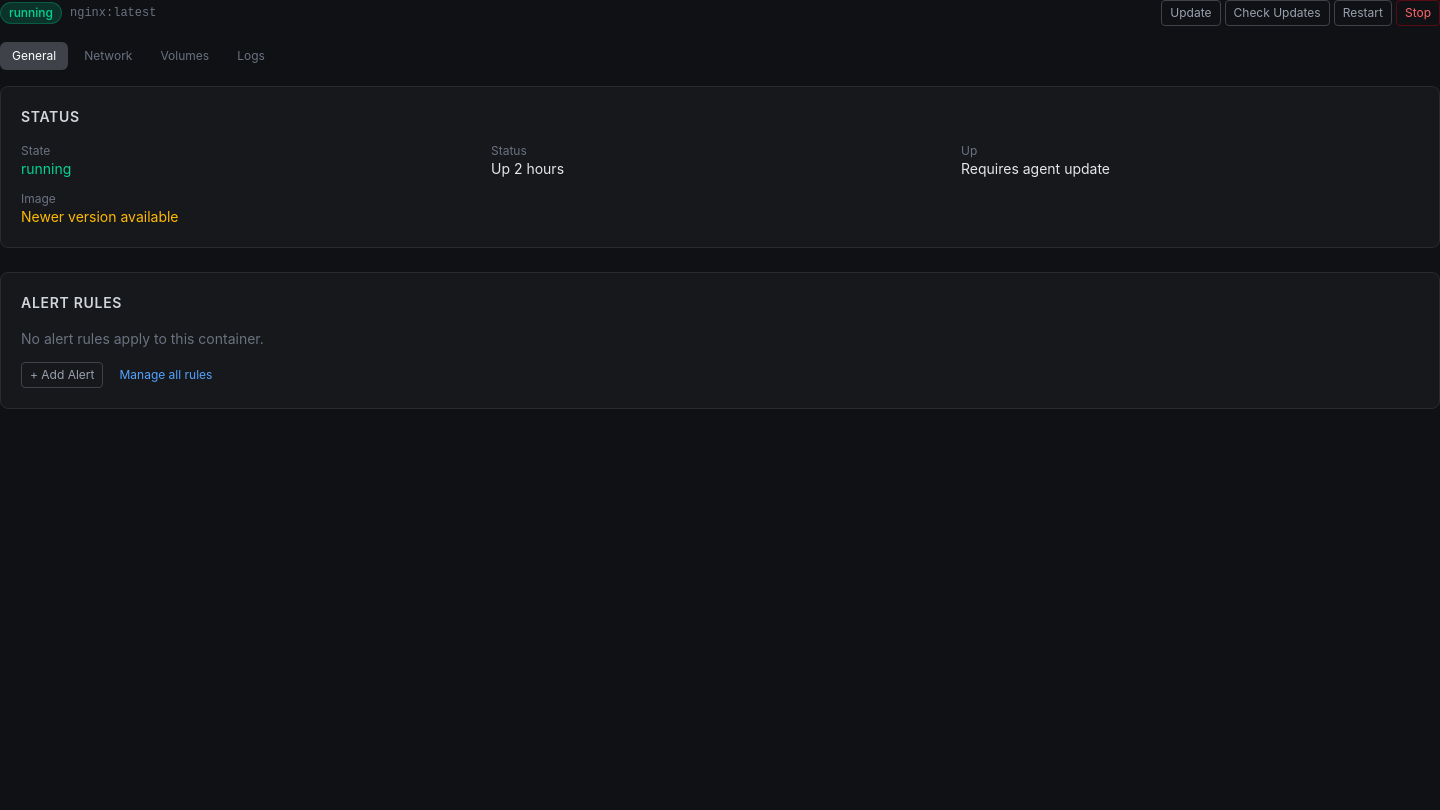
Test: [AC-114] terminal states render the frozen labels › shows Failed at <step>: <message> with a Dismiss button, until dismissed
The width and height of the screenshot is (1440, 810).
Click the button "Update" at (1191, 13), box [1161, 0, 1220, 26]
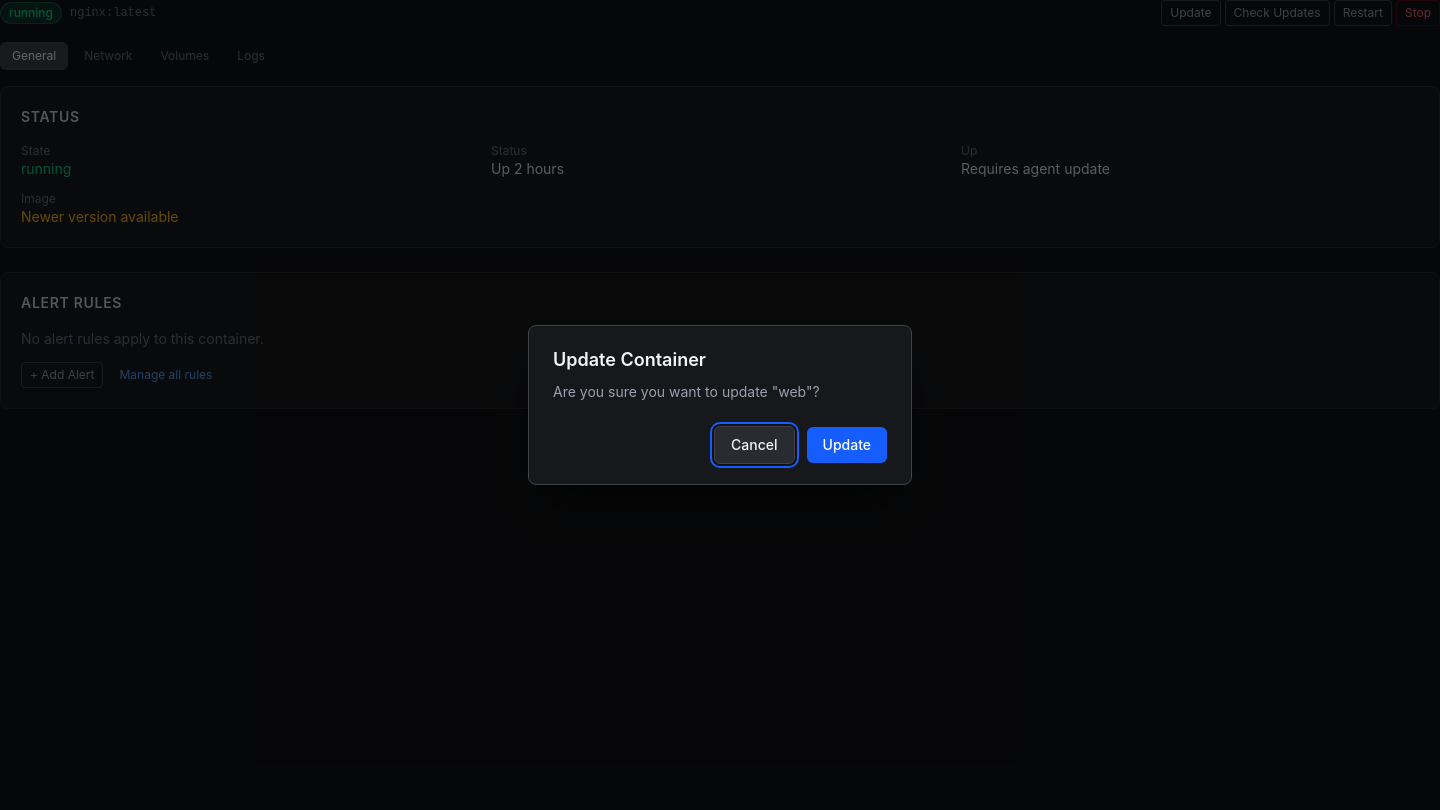
Click the button "Update" at (847, 445), box [806, 427, 887, 463]
Wait 60000 ms
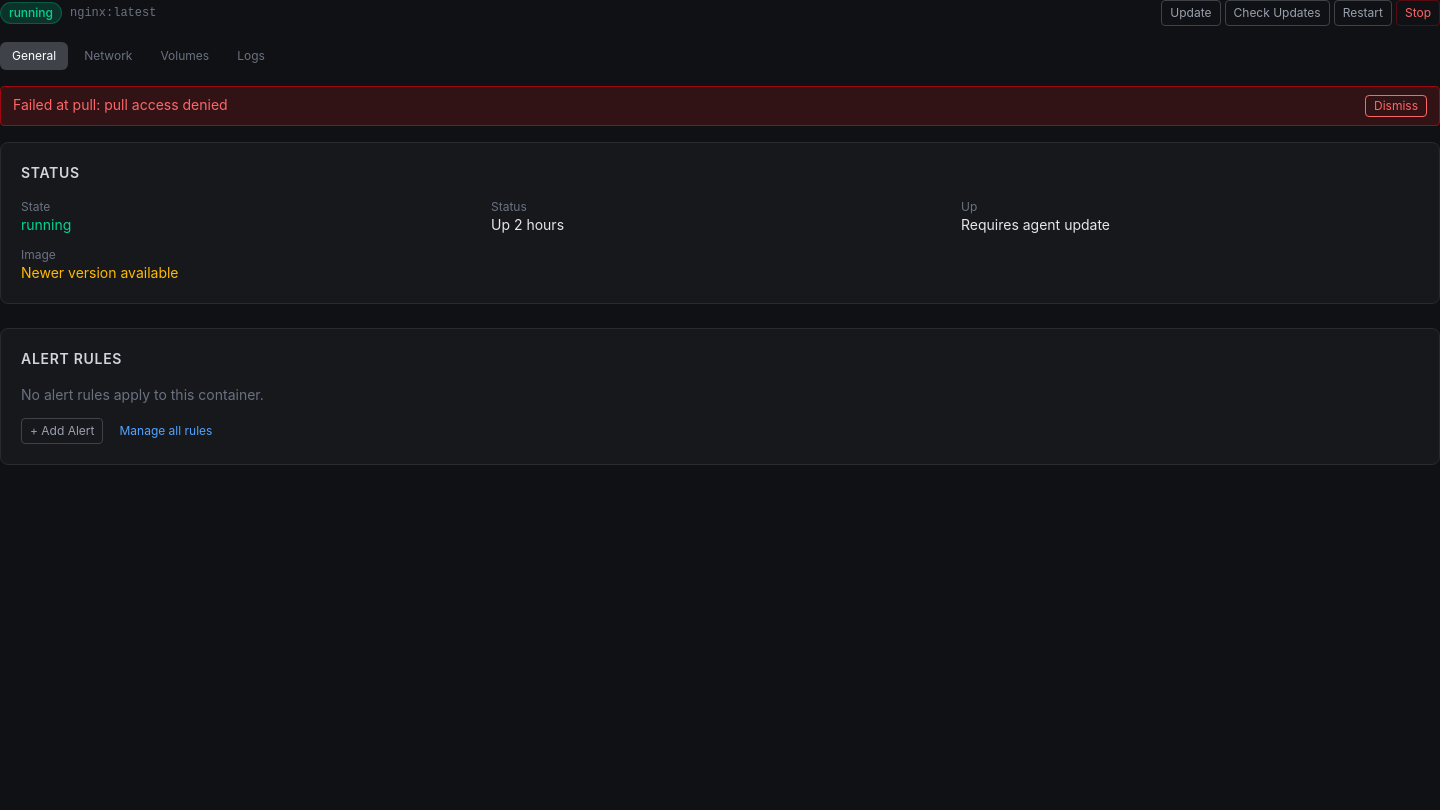
Expected: the message with test id "command-status" shows "Failed at pull: pull access denied", [13, 96, 228, 113]
Expected: the message "Failed at pull: pull access denied Dismiss" is shown, [0, 86, 1439, 126]
Click the button "Dismiss" at (1396, 106), box [1365, 95, 1427, 117]
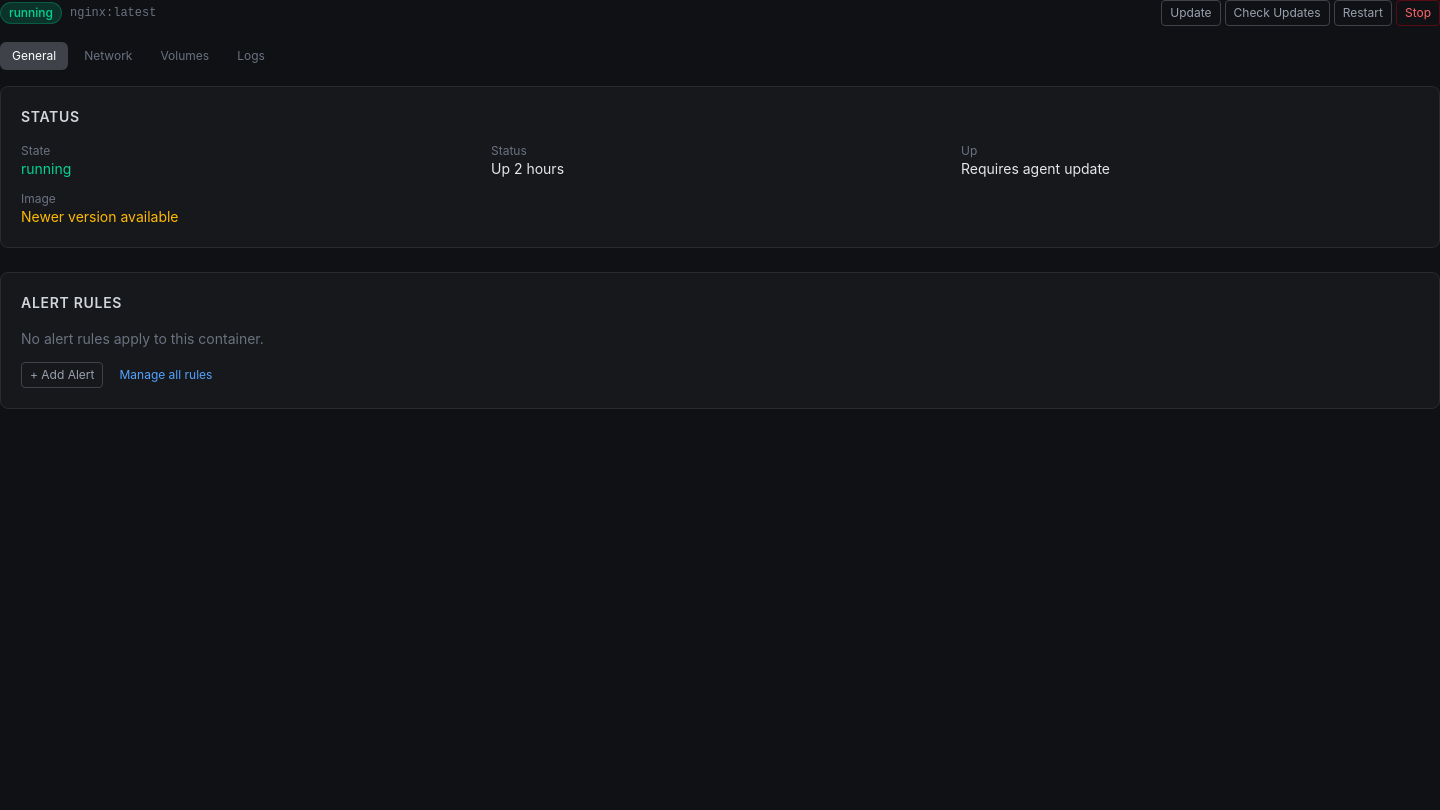
Expected: the message with test id "command-status" is gone
